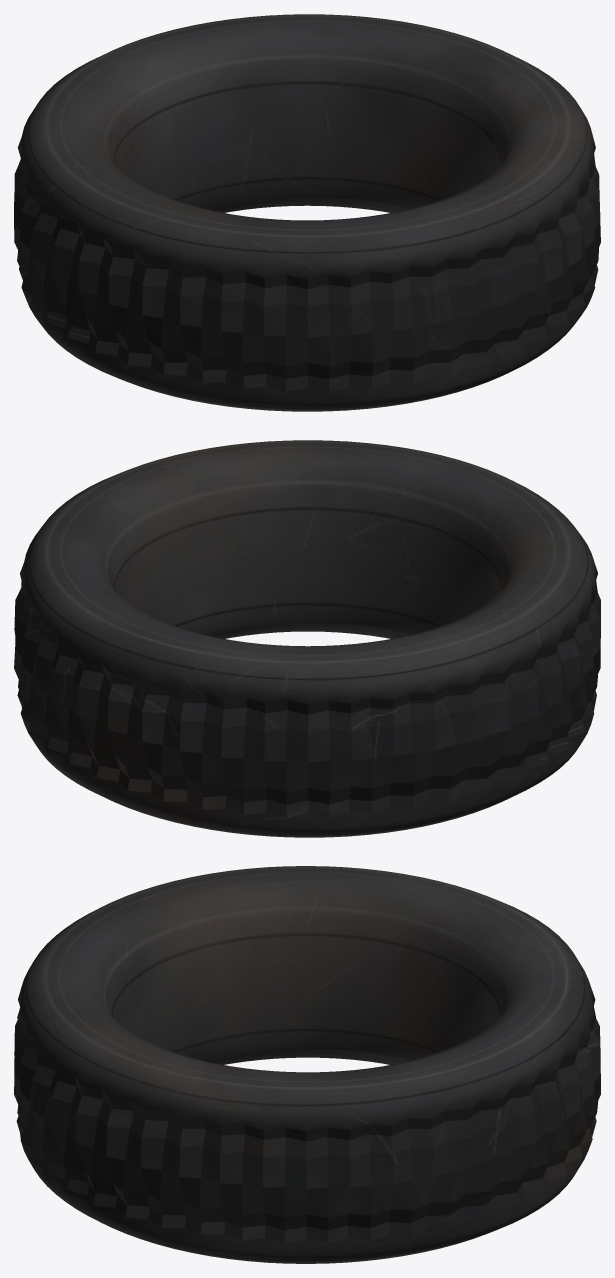
Rendered from mess-tyre.glb.
The picture shows the model from 3 angles, top to bottom: view 1: azimuth 30°, elevation 25°; view 2: azimuth 150°, elevation 25°; view 3: azimuth 270°, elevation 25°; orthographic projection.
Parts seen in each view (by area): view 1: mess-tyre; view 2: mess-tyre; view 3: mess-tyre.
Part boxes in pixels (<box>): mess-tyre: <box>14,14,600,411</box>; mess-tyre: <box>14,440,600,837</box>; mess-tyre: <box>14,866,600,1263</box>.
Bounding box in the file's own units: 0.6601 × 0.2189 × 0.659.
1 material, 1 textured.
